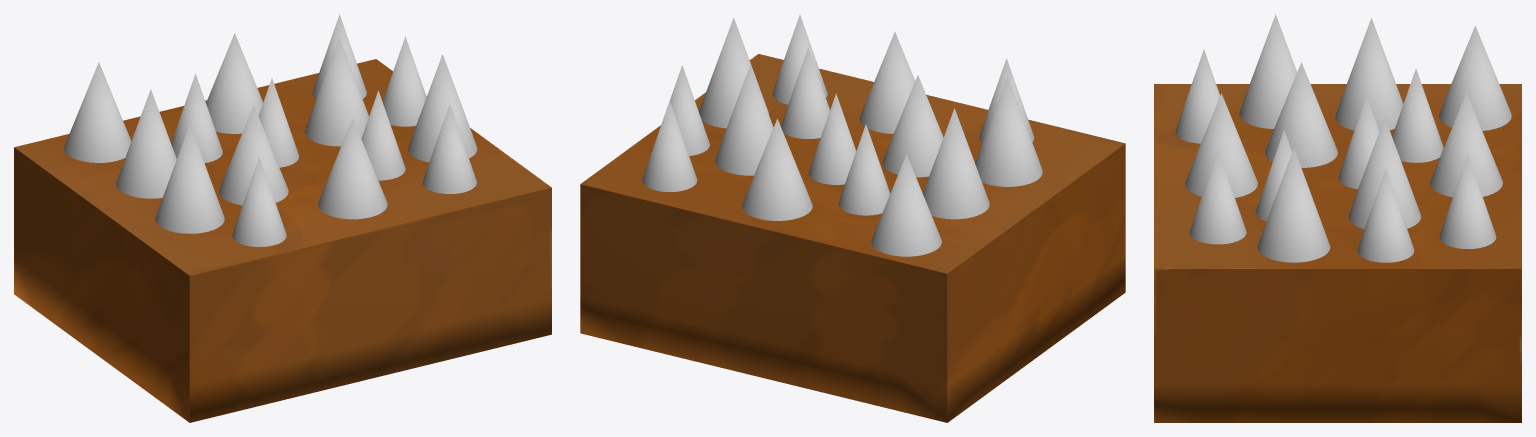
File: flor_spikes.fbx
The picture shows the model from 3 angles, left to right: view 1: azimuth 30°, elevation 25°; view 2: azimuth 150°, elevation 25°; view 3: azimuth 270°, elevation 25°; orthographic projection. The views are drawn at different scales.
Visible parts, largest first — view 1: floorSpike; view 2: floorSpike; view 3: floorSpike.
Boxes of the visible parts, bbox=[...] form: floorSpike: bbox=[14, 14, 551, 422]; floorSpike: bbox=[580, 14, 1125, 422]; floorSpike: bbox=[1154, 14, 1521, 422].
Bounding box in the file's own units: 259 × 166 × 218.
